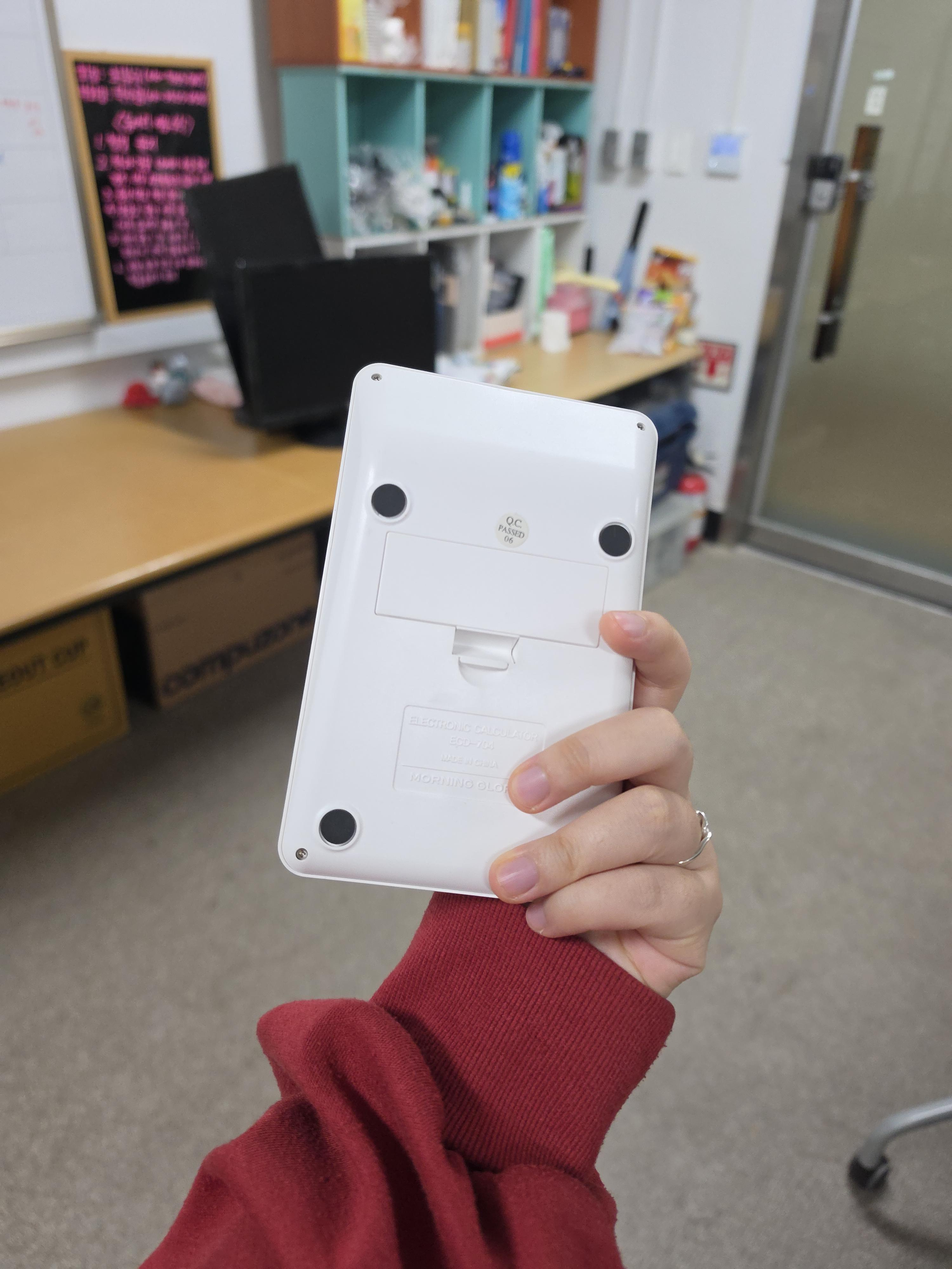calculator: (278, 362, 659, 900)
